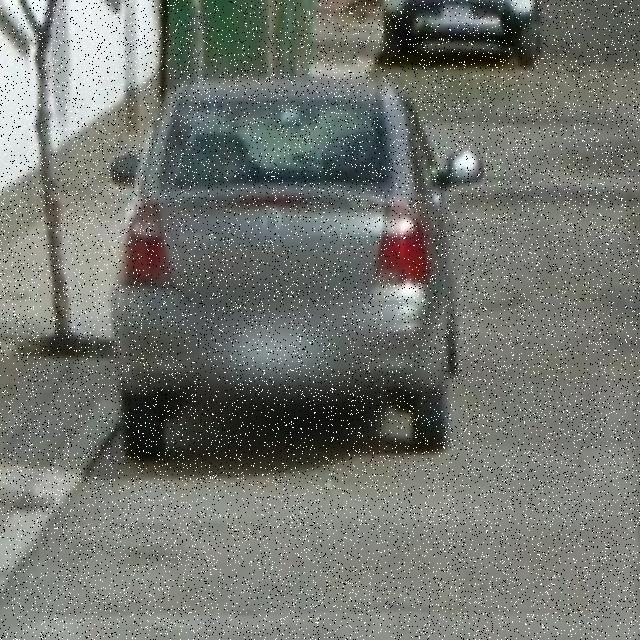cars: (119, 84, 466, 466)
